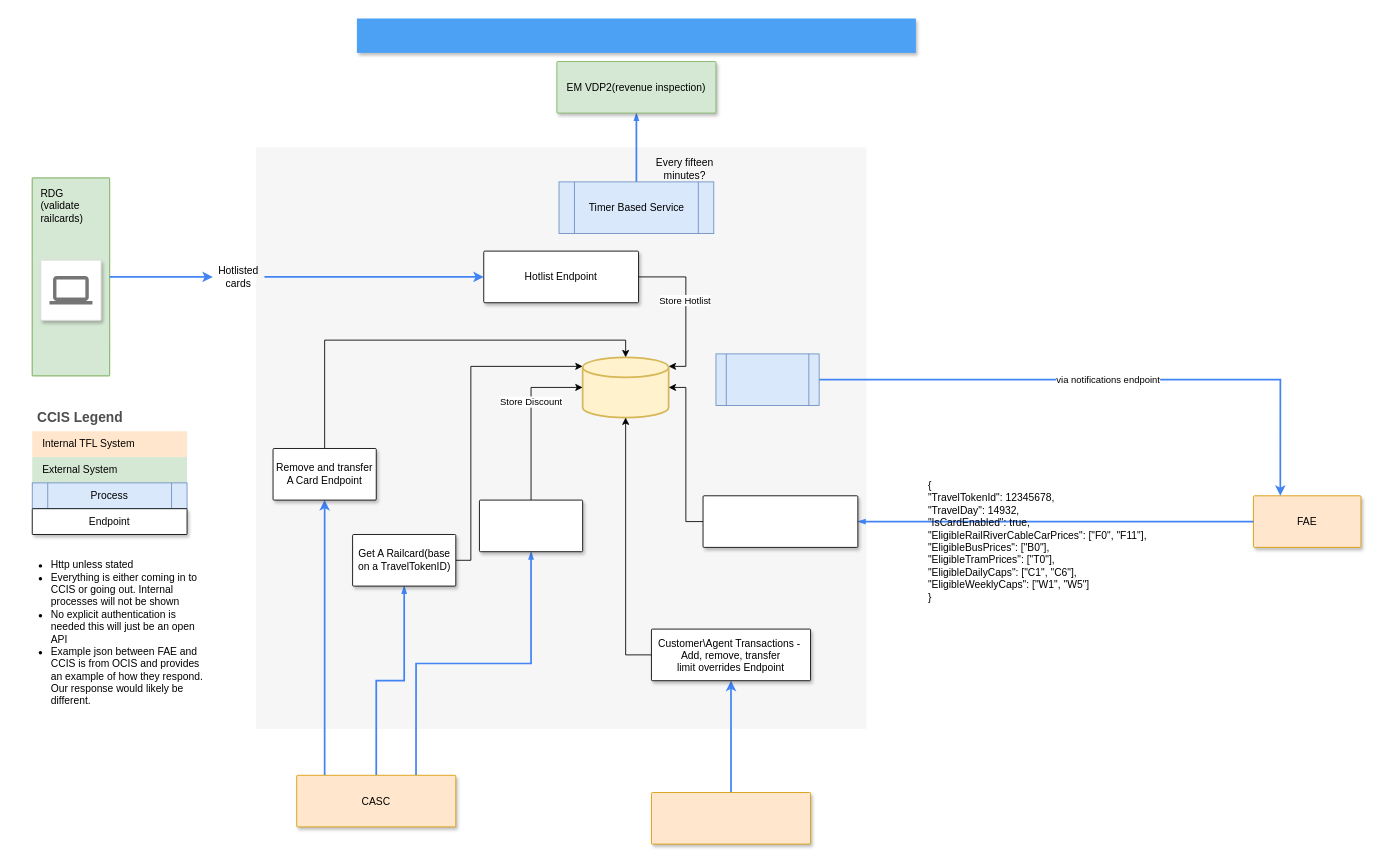
Image size: 1381x865. Some labels were removed from this diagram. Each missing label, with the centre of its shape:
"Add Railcard Endpoint" goes at point 531,527.
"CAS" goes at point 731,819.
"CCIS Database" goes at point 625,387.
"change of card detail" goes at point 767,379.
"Data Flow: CCIS API" goes at point 637,36.
"Request card day data Endpoint" goes at point 781,522.
